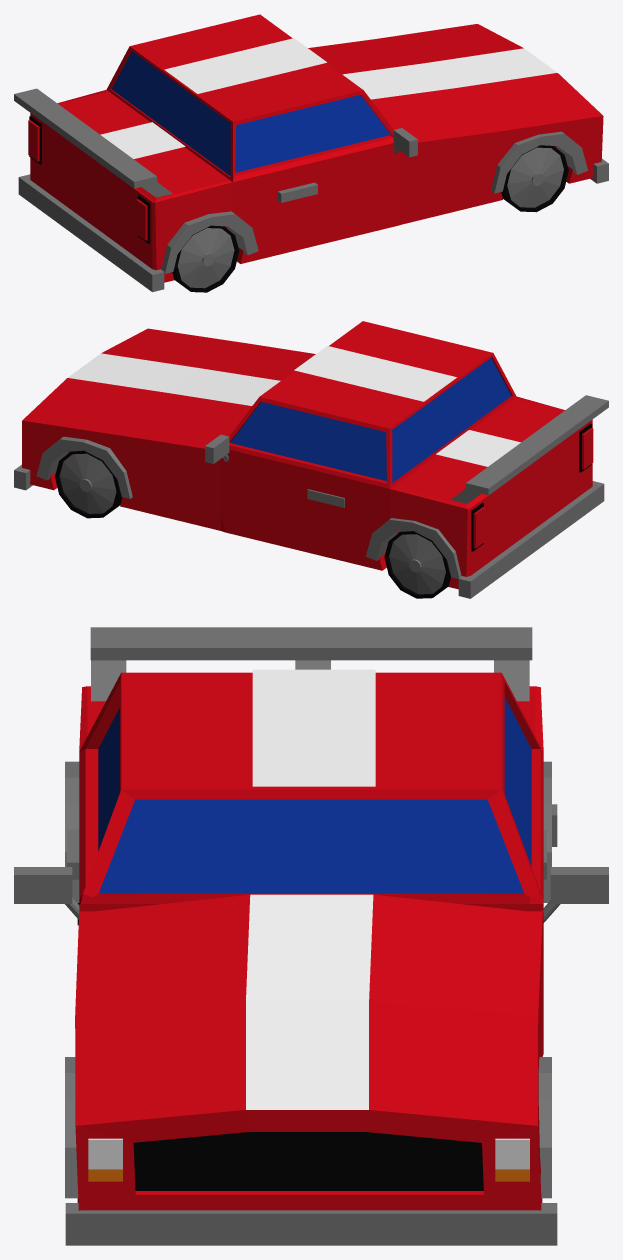
Rendered from Sport Car.fbx.
3 renders of one model, top to bottom at view 1: azimuth 30°, elevation 25°; view 2: azimuth 150°, elevation 25°; view 3: azimuth 270°, elevation 25°, orthographic. The views are drawn at different scales.
Visible parts, largest first — view 1: Cube, Cube.003, Cube.011, Cylinder.002, Cylinder.003, Cylinder.006, Cylinder.001, Cube.013, Cube.017, Cube.005, Cube.006; view 2: Cube, Cube.003, Cube.011, Cylinder.004, Cylinder.010, Cylinder.005, Cylinder.007, Cube.012, Cube.005, Cube.006, Cube.016; view 3: Cube, Cube.014, Cube.003, Cube.012, Cube.013, Cylinder.005, Cylinder.001, Cylinder.006, Cube.001, Cube.008, Cube.010, Cube.002 (+1 smaller).
Part boxes in pixels (x1=…): Cube: x1=30, y1=14, x2=603, y2=282; Cube.003: x1=14, y1=88, x2=157, y2=188; Cube.011: x1=18, y1=174, x2=164, y2=292; Cylinder.002: x1=501, y1=145, x2=568, y2=212; Cylinder.003: x1=172, y1=225, x2=239, y2=292; Cylinder.006: x1=161, y1=211, x2=258, y2=273; Cylinder.001: x1=490, y1=131, x2=587, y2=193; Cube.013: x1=393, y1=128, x2=417, y2=157; Cube.017: x1=278, y1=182, x2=317, y2=202; Cube.005: x1=28, y1=120, x2=39, y2=161; Cube.006: x1=136, y1=199, x2=147, y2=240; Cube: x1=22, y1=321, x2=592, y2=589; Cube.003: x1=465, y1=395, x2=608, y2=495; Cube.011: x1=458, y1=481, x2=604, y2=598; Cylinder.004: x1=55, y1=450, x2=122, y2=518; Cylinder.010: x1=384, y1=531, x2=450, y2=598; Cylinder.005: x1=36, y1=436, x2=132, y2=498; Cylinder.007: x1=366, y1=518, x2=461, y2=578; Cube.012: x1=205, y1=434, x2=229, y2=463; Cube.005: x1=473, y1=507, x2=485, y2=548; Cube.006: x1=582, y1=428, x2=593, y2=469; Cube.016: x1=307, y1=489, x2=344, y2=507; Cube: x1=75, y1=669, x2=543, y2=1210; Cube.014: x1=65, y1=1203, x2=557, y2=1245; Cube.003: x1=90, y1=627, x2=532, y2=660; Cube.012: x1=550, y1=867, x2=608, y2=903; Cube.013: x1=14, y1=867, x2=72, y2=903; Cylinder.005: x1=538, y1=1057, x2=551, y2=1198; Cylinder.001: x1=65, y1=1057, x2=78, y2=1198; Cylinder.006: x1=65, y1=761, x2=79, y2=902; Cube.001: x1=91, y1=660, x2=126, y2=701; Cube.008: x1=88, y1=1138, x2=122, y2=1168; Cube.010: x1=495, y1=1138, x2=529, y2=1168; Cube.002: x1=494, y1=660, x2=529, y2=701.
Bounding box in the file's own units: 690 × 217 × 413.
